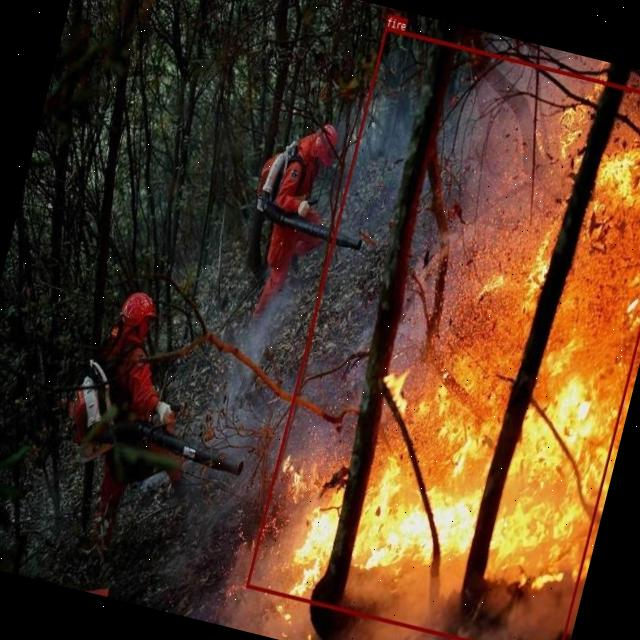fire: (245, 26, 640, 640)
